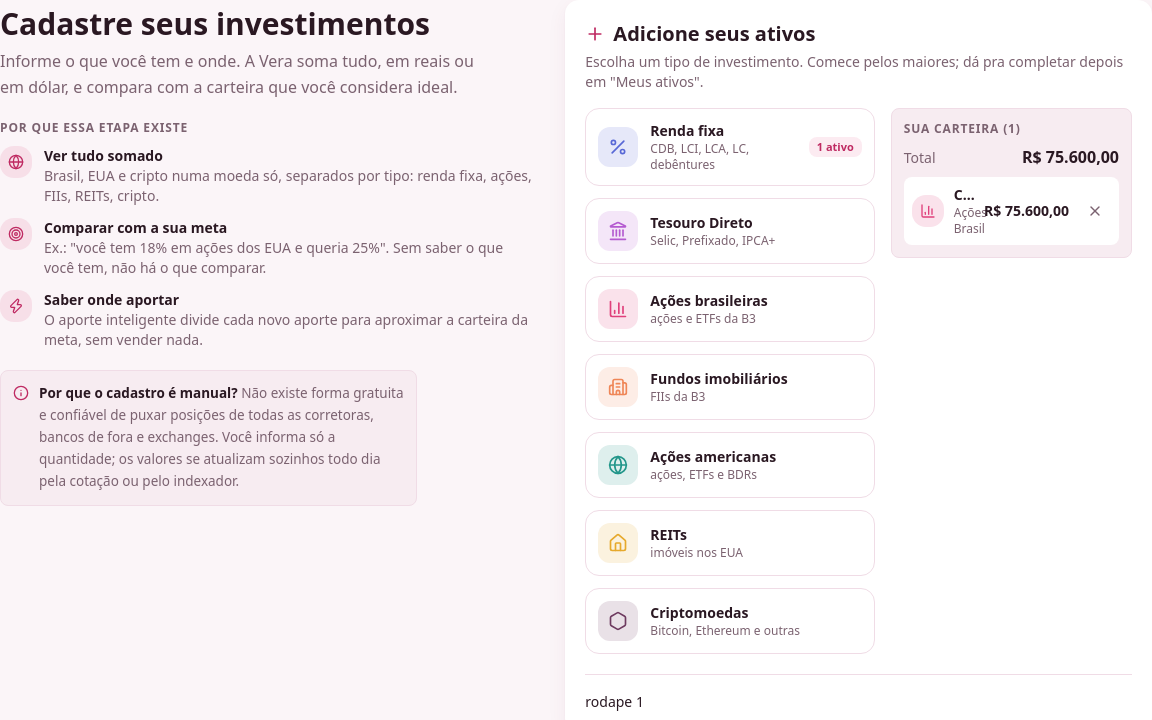
Test: AssetsStep › remove um título de renda fixa pelo DELETE de títulos e permite cancelar
Click the button named "Remover CDB Banco X" at {"x": 1095, "y": 211}, box [1079,195,1111,227]
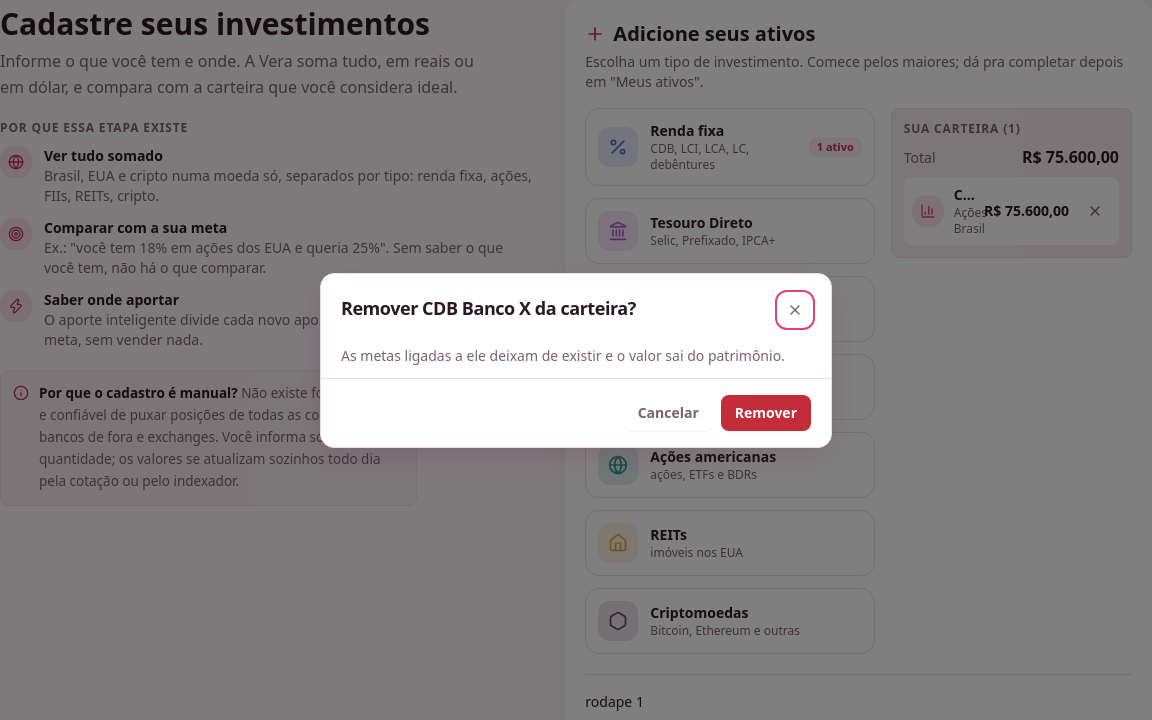
Click the button "Cancelar" at {"x": 668, "y": 412}, box [624,394,713,430]
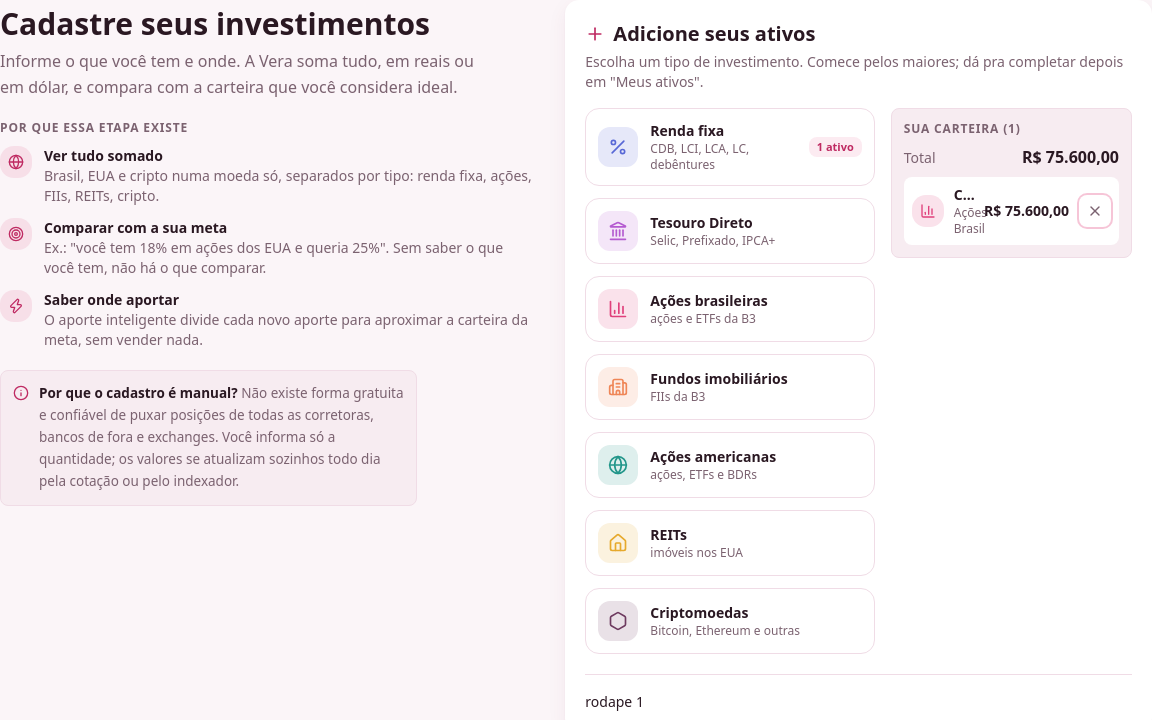
Result: the dialog is gone
Click the button named "Remover CDB Banco X" at {"x": 1095, "y": 211}, box [1079,195,1111,227]
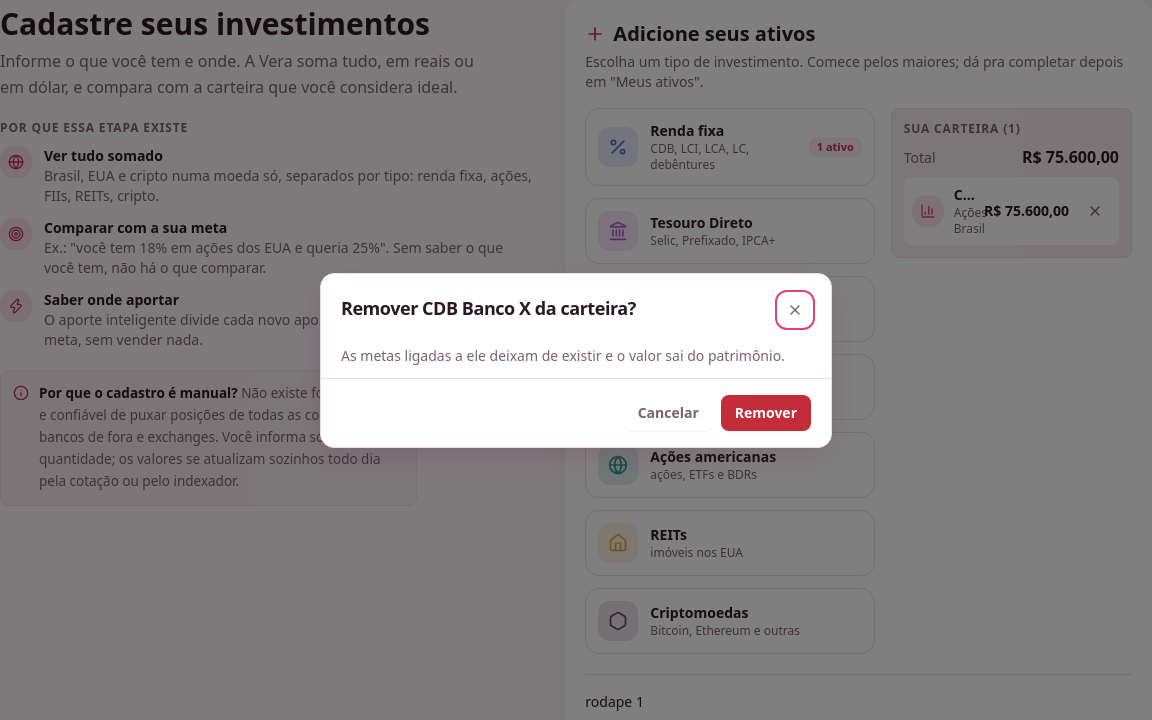
Click the button "Remover" at {"x": 766, "y": 412}, box [721,394,811,430]
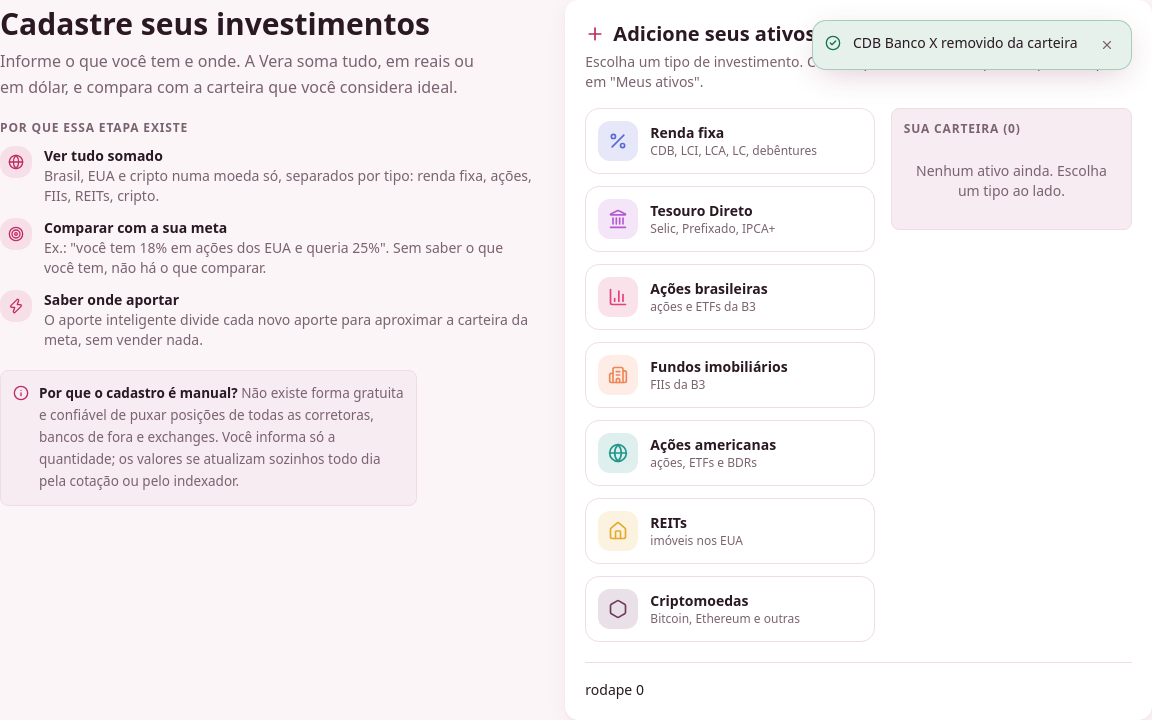
Result: the text "Nenhum ativo ainda. Escolha um tipo ao lado." is shown at [916,161,1107,200]
